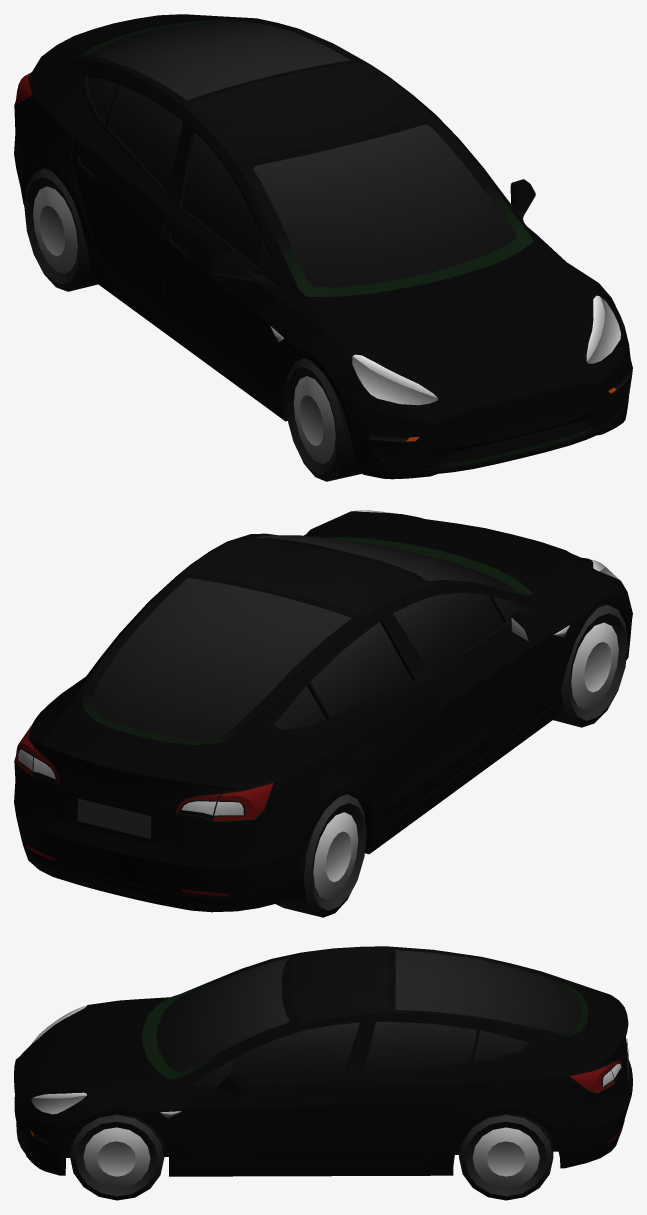
Rendered from tesla.glb.
3 renders of one model, top to bottom at view 1: azimuth 30°, elevation 25°; view 2: azimuth 150°, elevation 25°; view 3: azimuth 270°, elevation 25°, orthographic. The views are drawn at different scales.
Parts seen in each view (by area): view 1: Body001, FRW001, RRW001; view 2: Body001, RRW001, FRW001, Registration_Plate001; view 3: Body001, RLW001, FLW001.
Part boxes in pixels (<box>): Body001: <box>14,14,632,479</box>; FRW001: <box>285,358,361,481</box>; RRW001: <box>24,168,97,291</box>; Body001: <box>14,510,632,912</box>; RRW001: <box>276,794,366,917</box>; FRW001: <box>553,604,627,727</box>; Registration_Plate001: <box>77,799,150,838</box>; Body001: <box>14,946,632,1176</box>; RLW001: <box>459,1114,553,1200</box>; FLW001: <box>70,1114,165,1200</box>.
Size of the model in its own units: 208 by 144 by 463.
3 materials, 1 textured.
